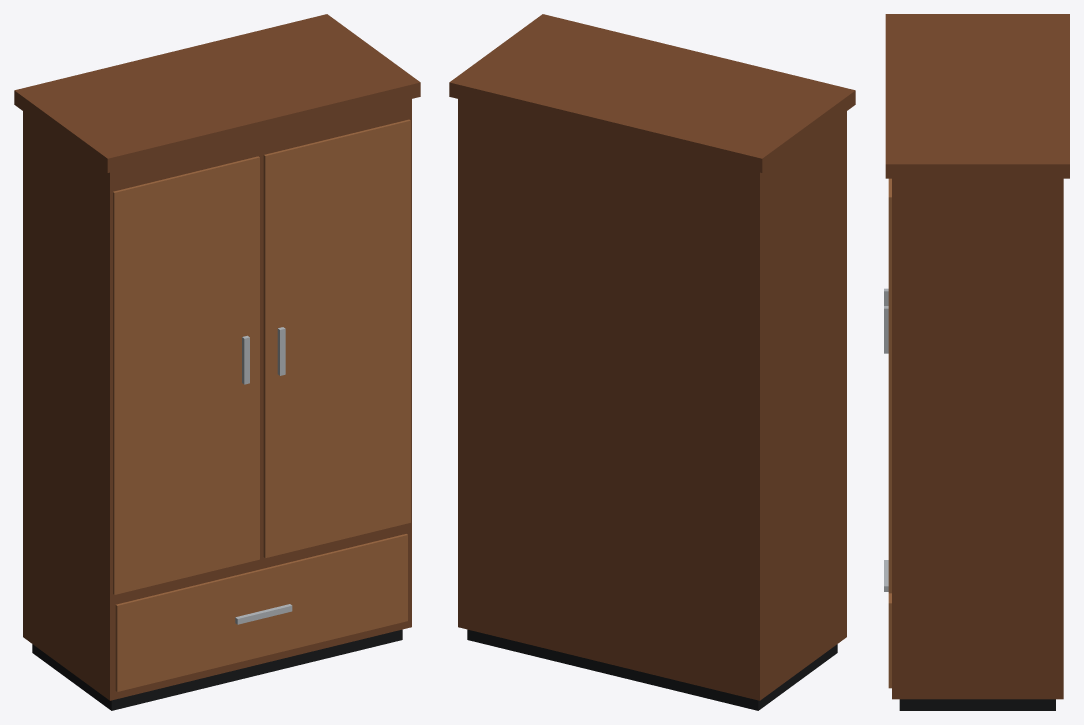
File: lome-armoire.glb
3 views of the same model, side by side, from view 1: azimuth 30°, elevation 25°; view 2: azimuth 150°, elevation 25°; view 3: azimuth 270°, elevation 25° (orthographic).
Visible parts, largest first — view 1: caisse, porte.003, porte.002, corniche, tiroir, plinthe; view 2: caisse, corniche, plinthe; view 3: caisse, corniche, plinthe, porte.003, tiroir.
Boxes of the visible parts, box(x1,y1,x2,y2) form: caisse: box(23, 99, 411, 700); porte.003: box(263, 119, 410, 557); porte.002: box(113, 156, 259, 594); corniche: box(14, 14, 420, 172); tiroir: box(115, 534, 407, 691); plinthe: box(32, 629, 402, 710); caisse: box(458, 99, 846, 700); corniche: box(449, 14, 855, 172); plinthe: box(467, 629, 837, 710); caisse: box(892, 178, 1063, 699); corniche: box(885, 14, 1069, 178); plinthe: box(899, 699, 1055, 710); porte.003: box(888, 178, 891, 593); tiroir: box(888, 593, 891, 688).
Bounding box in the file's own units: 1.14 × 1.95 × 0.595.
